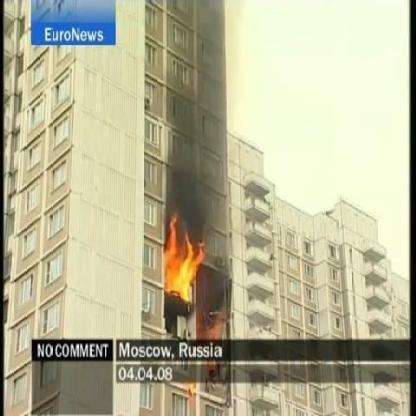fire: (163, 213, 204, 298), (204, 316, 230, 340)
